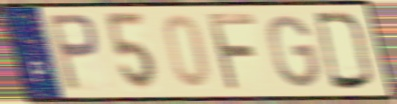0: (162, 12, 214, 92)
5: (101, 10, 160, 95)
D: (311, 10, 377, 92)
F: (204, 11, 260, 93)
G: (267, 12, 322, 90)
P: (45, 12, 102, 95)
